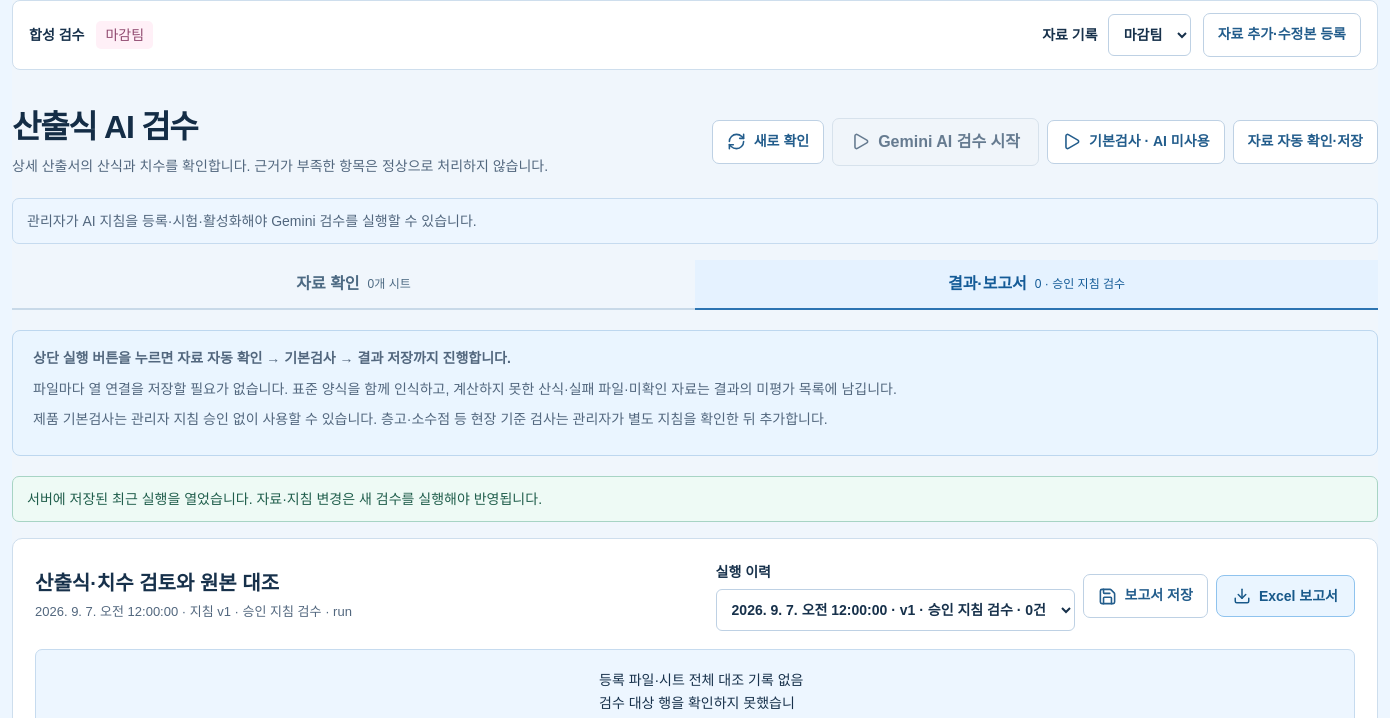
review preparation and feature navigation › saves the selected report, shows provider failure and permits retry without losing download
The image size is (1390, 718).
Expected: the list item "등록 파일·시트 전체 대조 기록 없음" is shown, [599,669,809,692]
Click the button "보고서 저장" at (1145, 596), box [1083,574,1208,618]
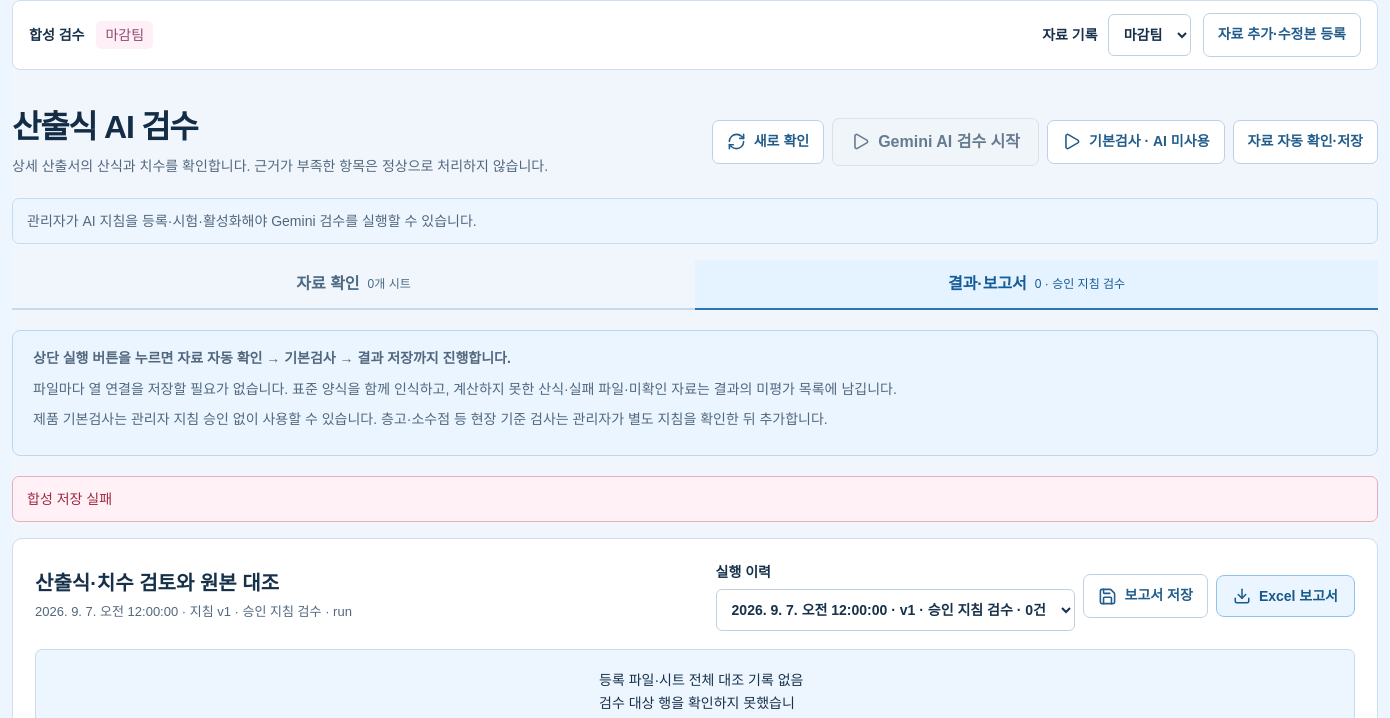
Now the text "합성 저장 실패" is shown, box [12,476,1378,522]
Click the button "보고서 저장" at (1145, 596), box [1083,574,1208,618]
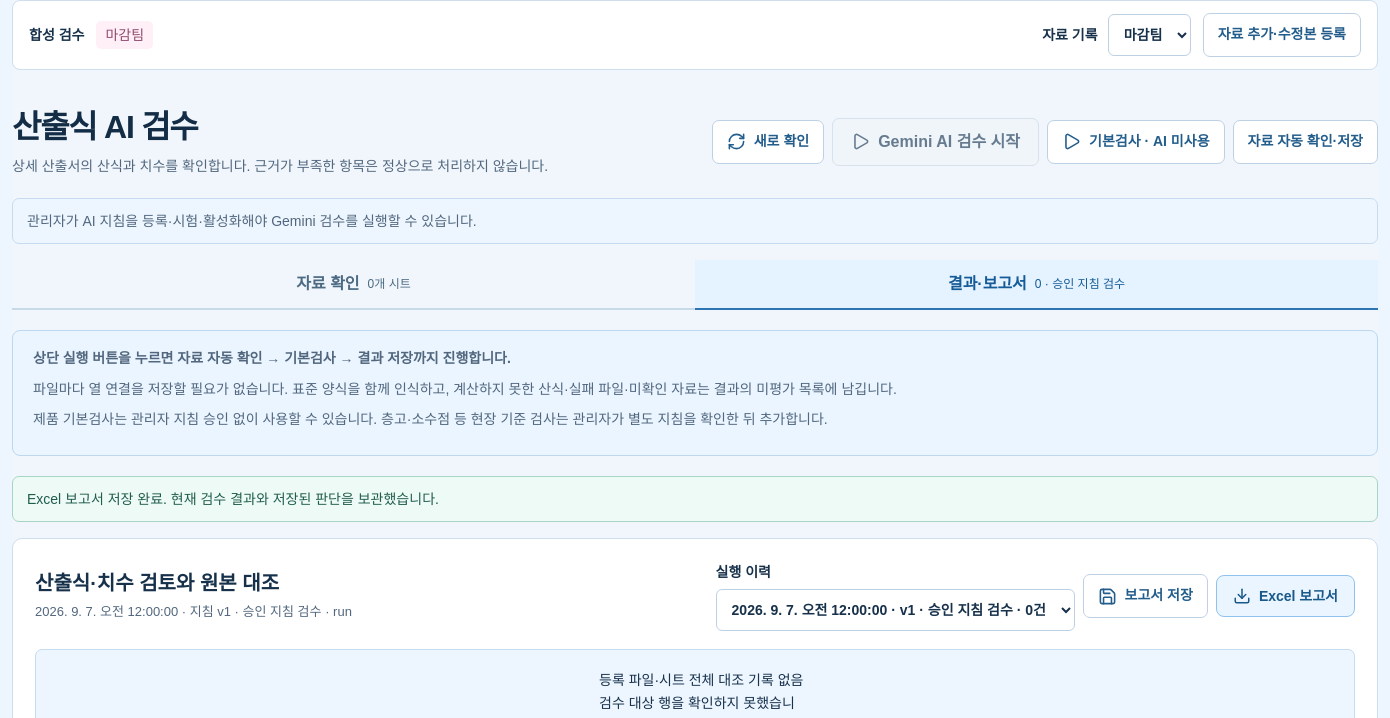
Now the text "Excel 보고서 저장 완료. 현재 검수 결과와 저장된 판단을 보관했습니다." is shown, box [12,476,1378,522]
